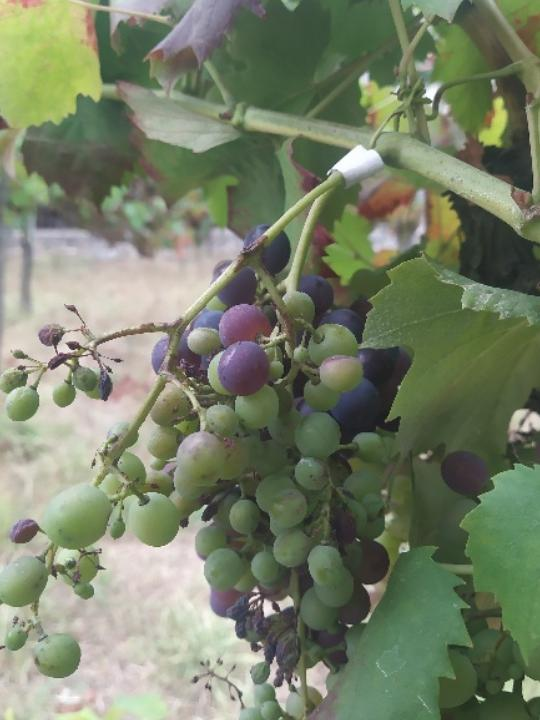grape: (0, 220, 396, 720)
